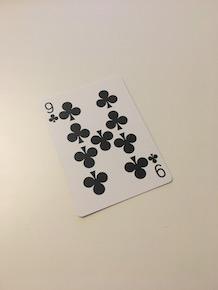NineOfClubs: (30, 69, 176, 221)
